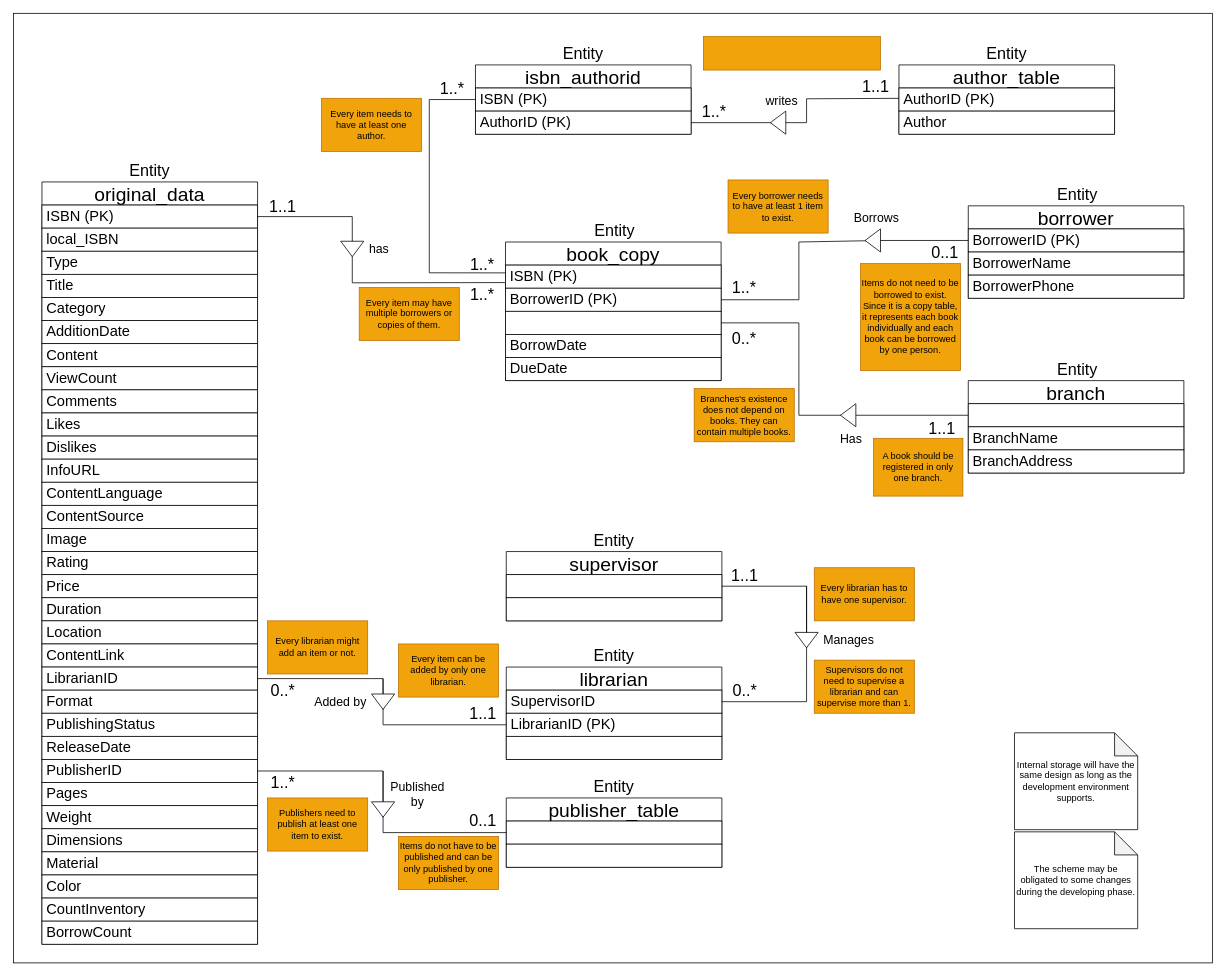
Image size: 1226x977. Some labels were removed from this diagram. The shapes that lost their labels are listed below. From the top down, each one's centre as x and y in pixels, then its label:
At (791,53): "Authors can have multiple books but each authorID belongs to only one person.".
At (613,322): "BranchID".
At (1076,415): "BranchID (PK)".
At (614,586): "SupervisorID (PK)".
At (614,609): "SupervisorName".
At (614,747): "LibrarianName".
At (614,832): "PublisherID (PK)".
At (614,855): "Publisher".
